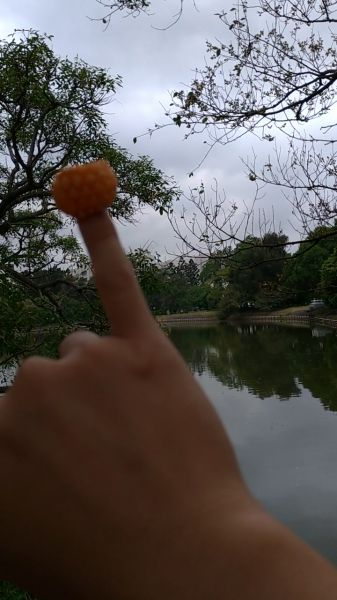eggs: (50, 161, 119, 212)
